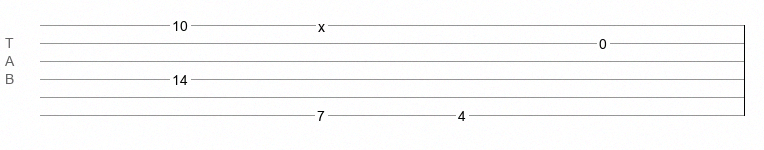0: (599, 36, 607, 46)
10: (172, 18, 188, 28)
14: (172, 72, 188, 82)
4: (458, 108, 466, 118)
7: (317, 108, 325, 118)
x: (318, 19, 325, 27)
